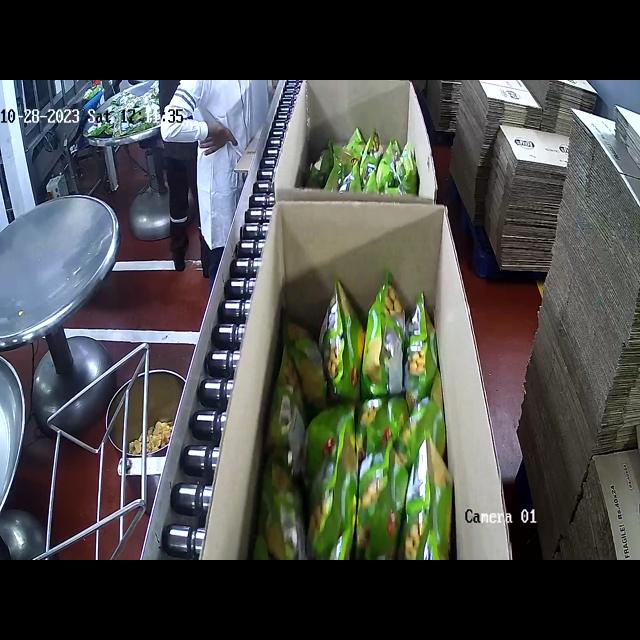yogurt: (253, 271, 453, 558), (312, 120, 419, 197)
